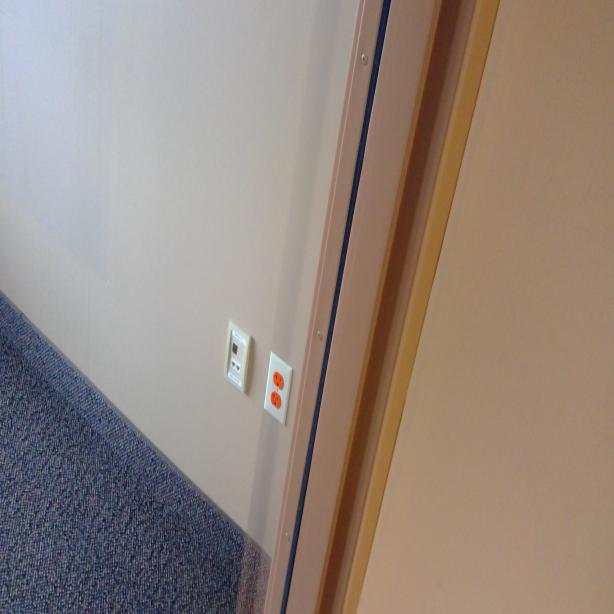typeb: (269, 389, 282, 411), (271, 370, 284, 391)
